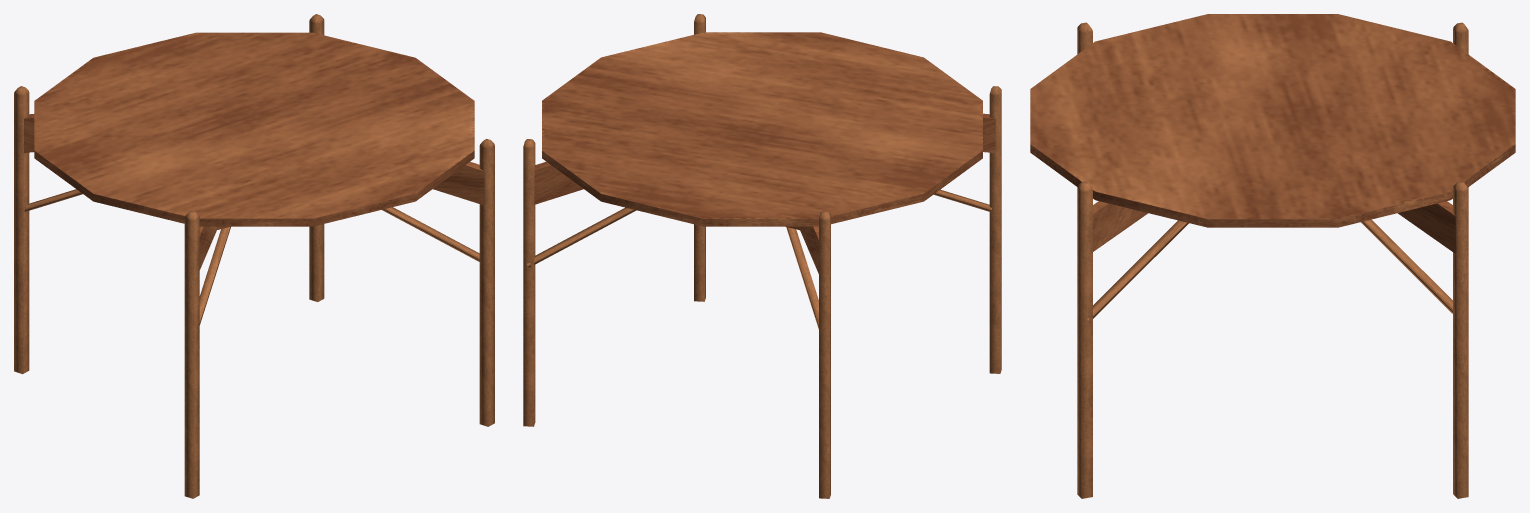
Rendered from LC_3010_round_table_LOD1.FBX.
3 views of the same model, side by side, from view 1: azimuth 30°, elevation 25°; view 2: azimuth 150°, elevation 25°; view 3: azimuth 270°, elevation 25° (orthographic). The views are drawn at different scales.
Parts seen in each view (by area): view 1: LC_3010_round_table_LOD1; view 2: LC_3010_round_table_LOD1; view 3: LC_3010_round_table_LOD1.
Part boxes in pixels (left/top/right/bottom): LC_3010_round_table_LOD1: left=14, top=14, right=494, bottom=498; LC_3010_round_table_LOD1: left=523, top=14, right=1001, bottom=498; LC_3010_round_table_LOD1: left=1030, top=14, right=1515, bottom=498.
Bounding box in the file's own units: 80.53 × 57.31 × 80.53.
1 material, 1 textured.
